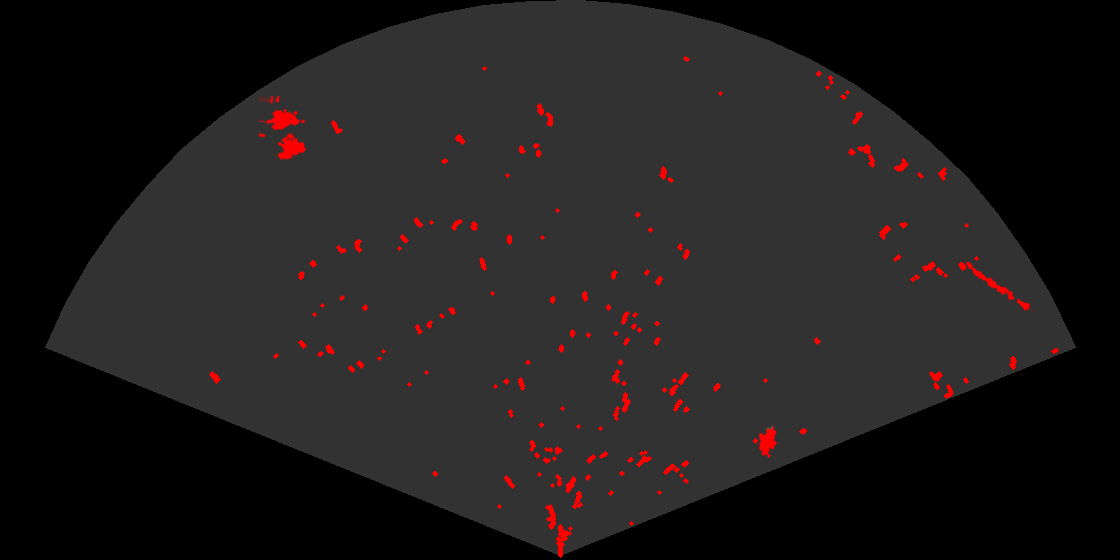AUV: (757, 424, 779, 458)
cage: (259, 96, 308, 162)
chain: (964, 260, 1035, 315)
